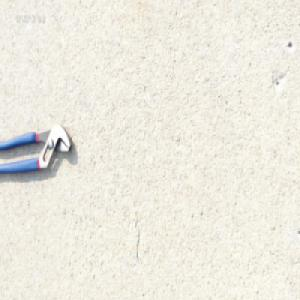Pliers: (0, 122, 71, 176)
